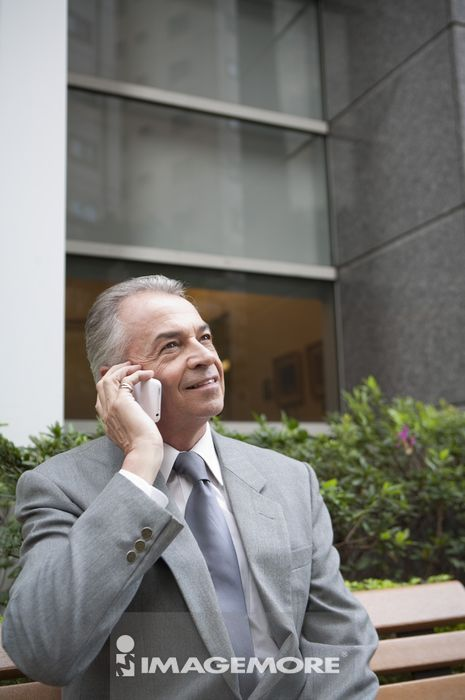phone: (125, 374, 163, 426)
talk: (91, 317, 225, 466)
